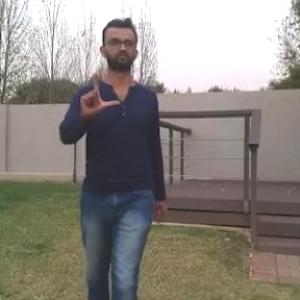land_hand: (77, 62, 122, 119)
